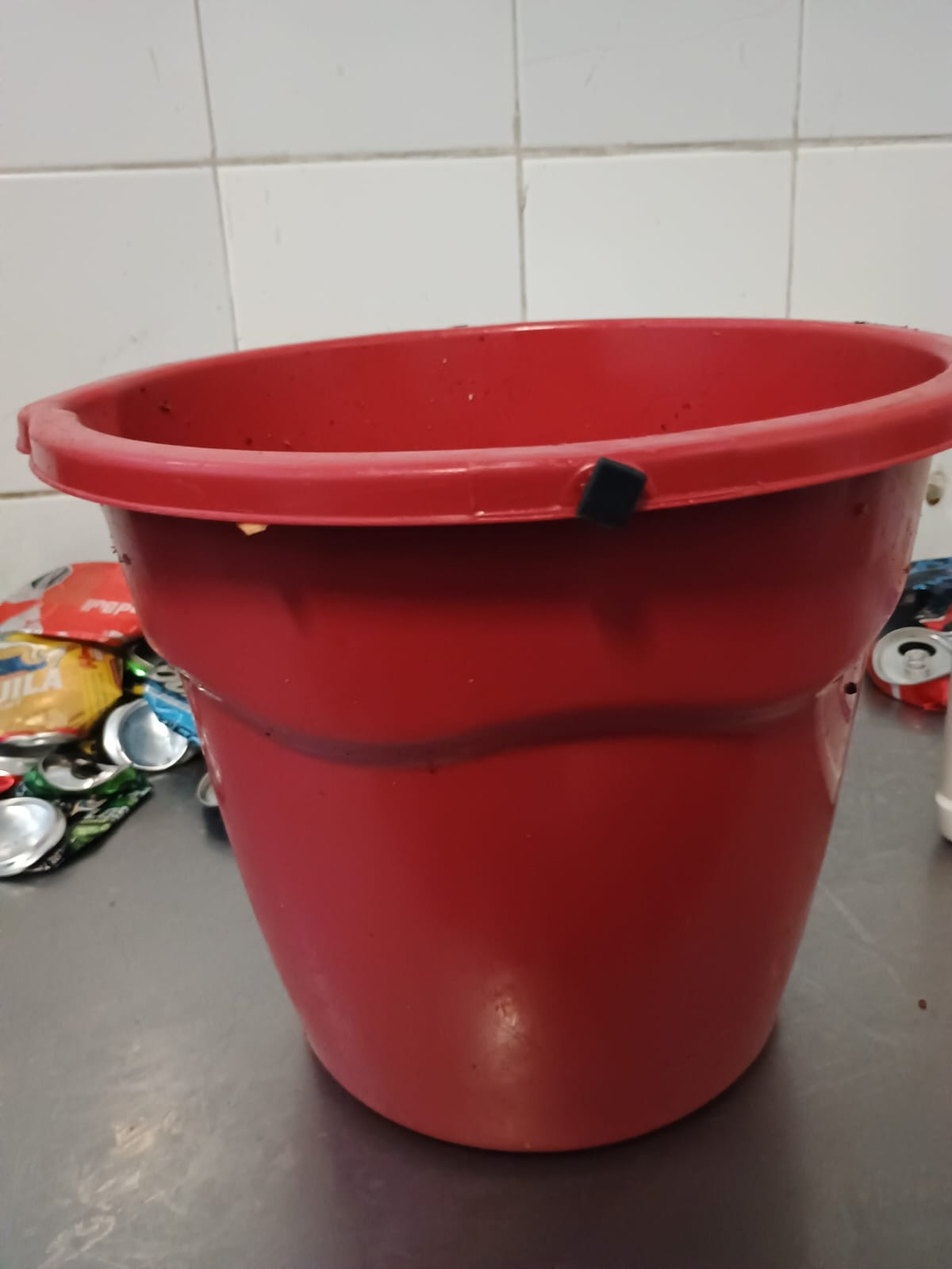Plastico: (16, 320, 952, 1150)
